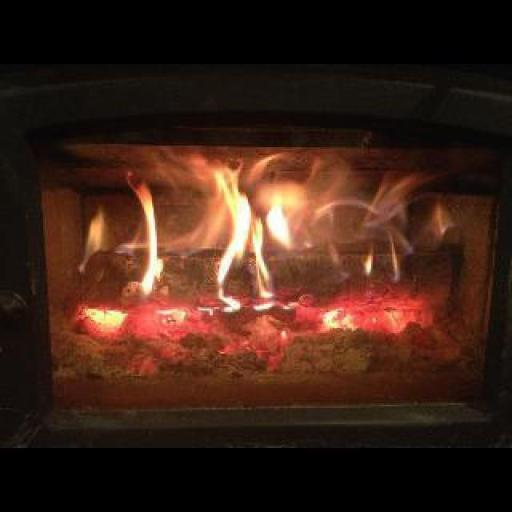smoke: (70, 144, 446, 363)
